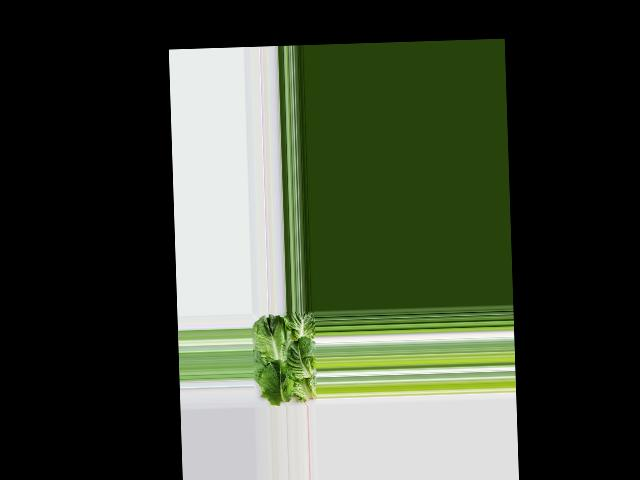lettuce: (253, 313, 318, 404)
